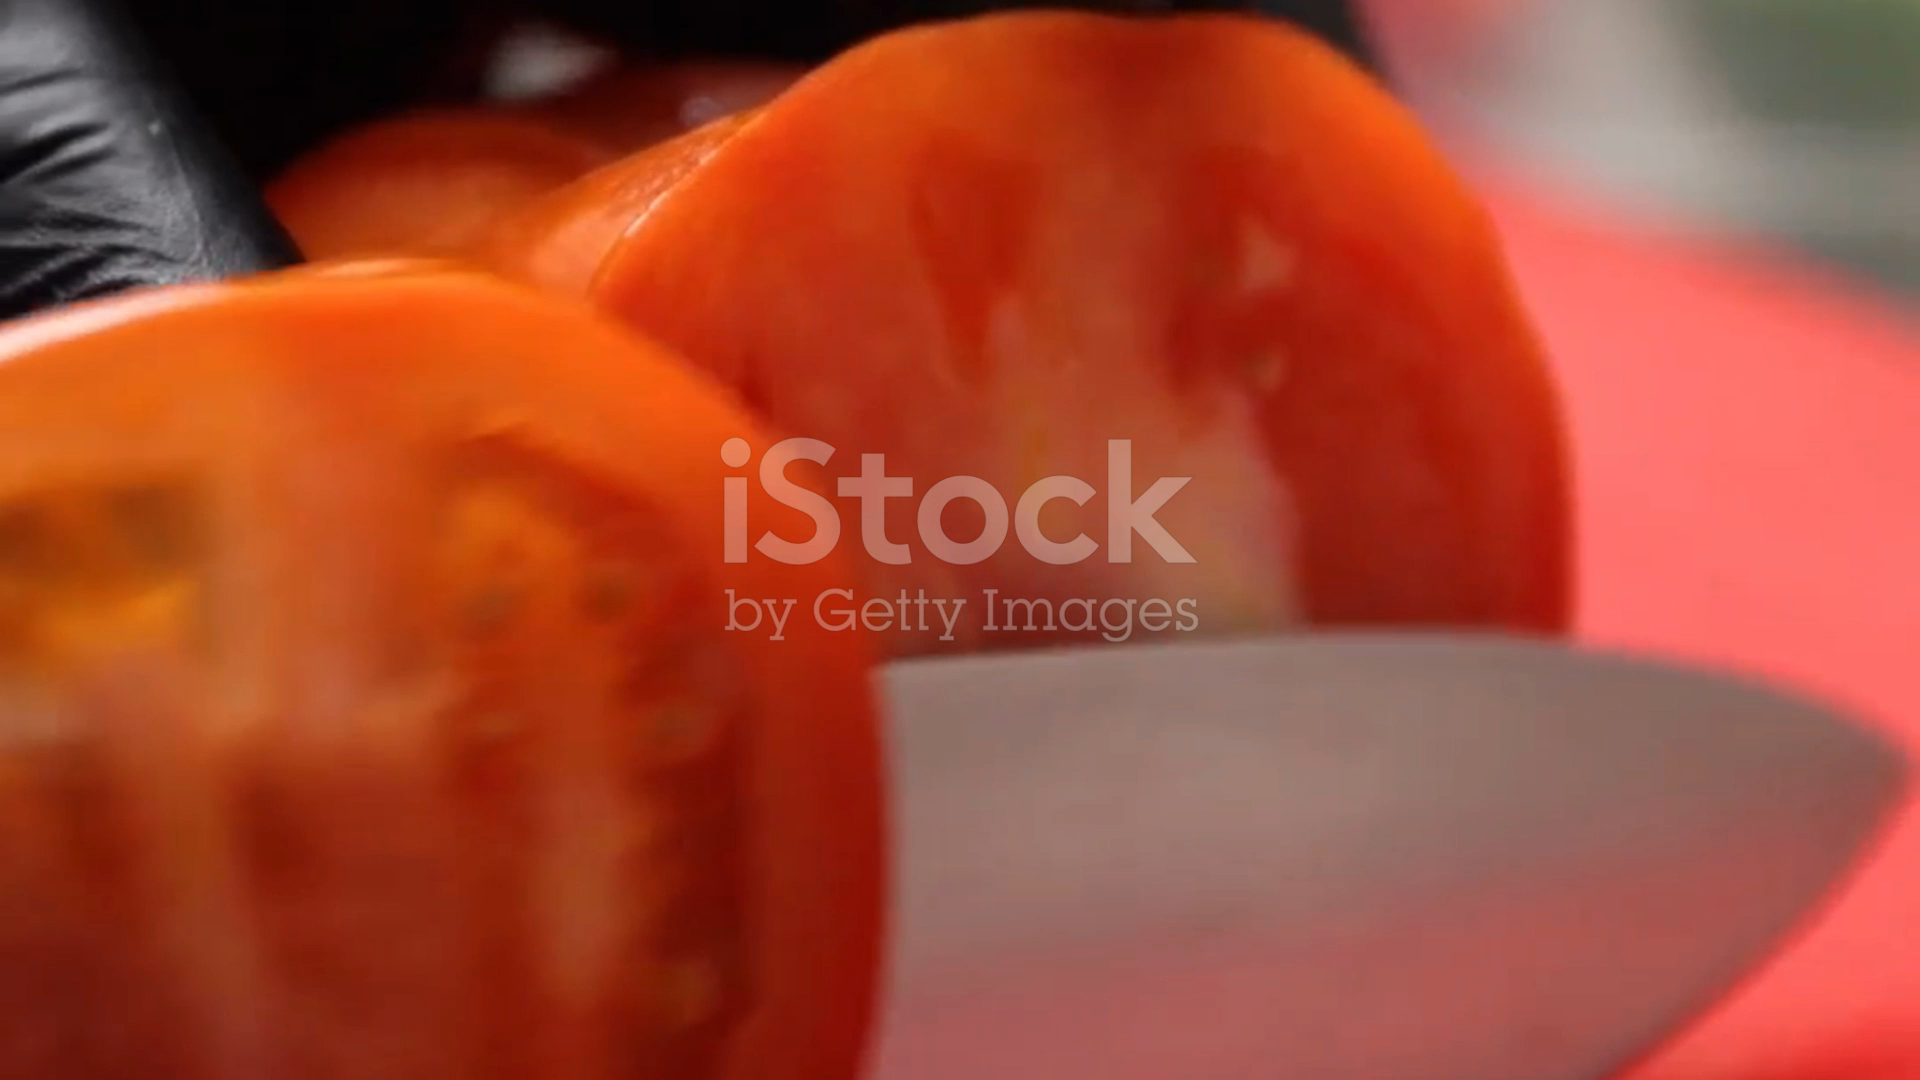cortante: (803, 644, 1920, 1080)
